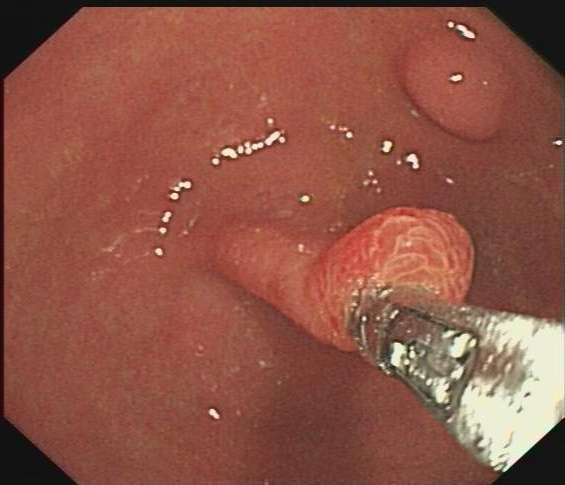Polyp: (382, 41, 512, 143)
